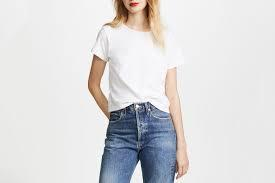Tshirt: (88, 20, 180, 114)
